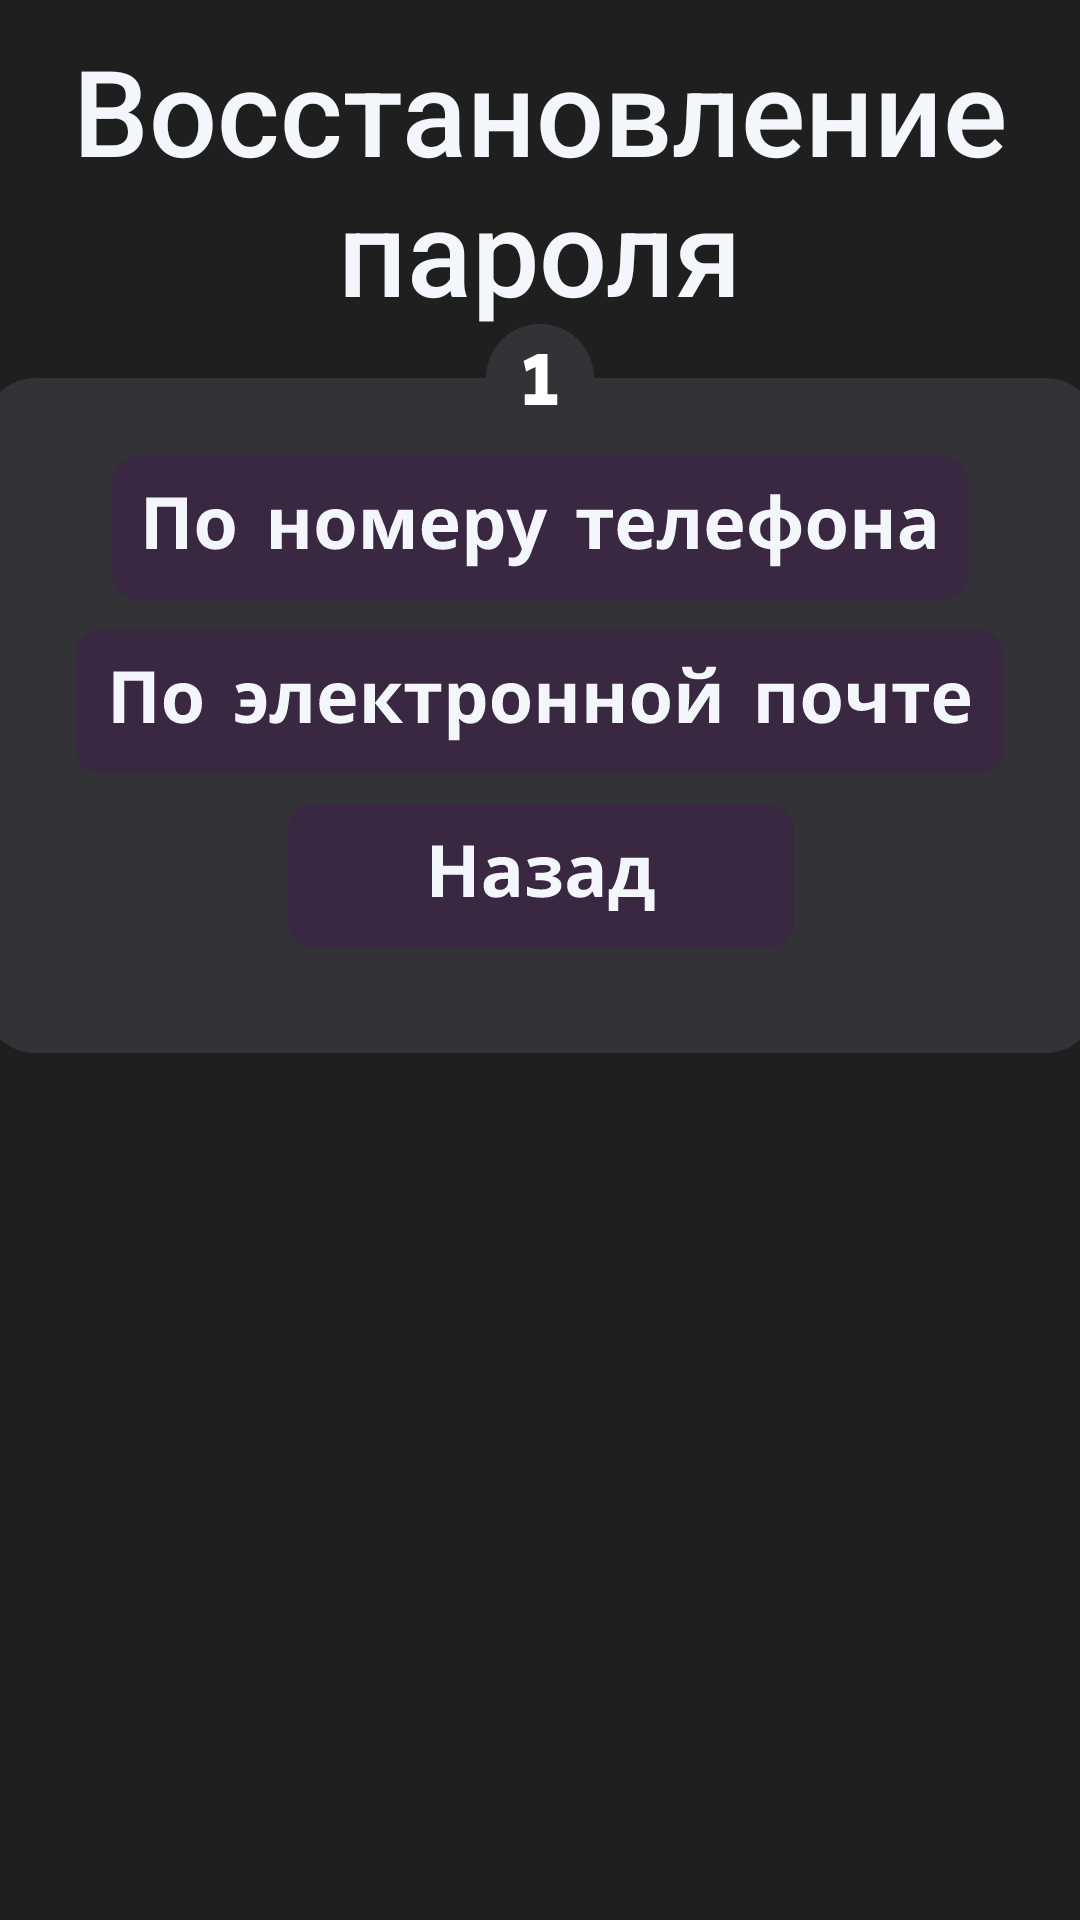

Icon click points for this 1080px x 1920px phone screenshot, format (x=x, y=y):
pagenumberimage: (x=540, y=370)
